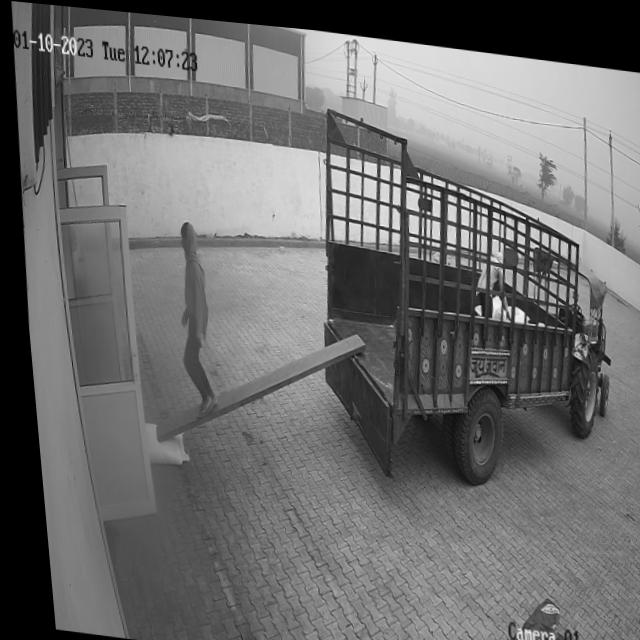sack: (135, 420, 183, 464)
